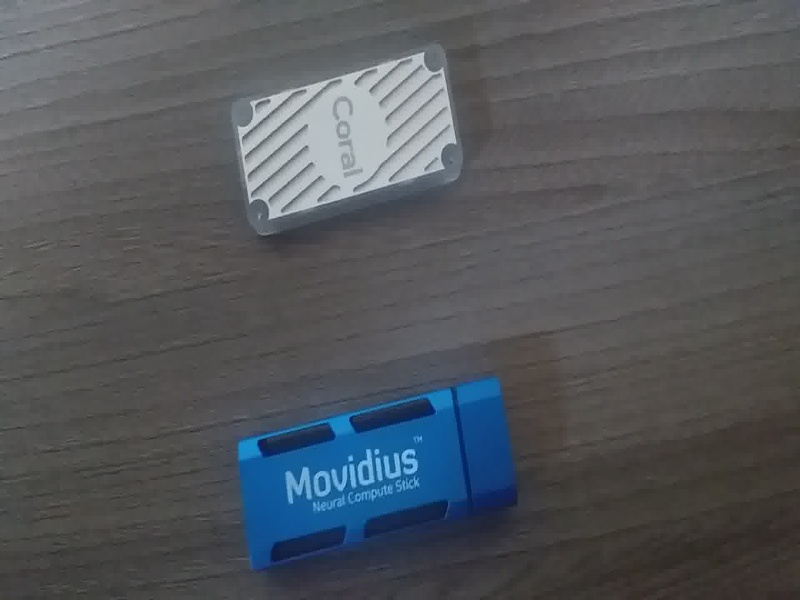coral: (213, 48, 480, 246)
movidius: (217, 367, 524, 575)
